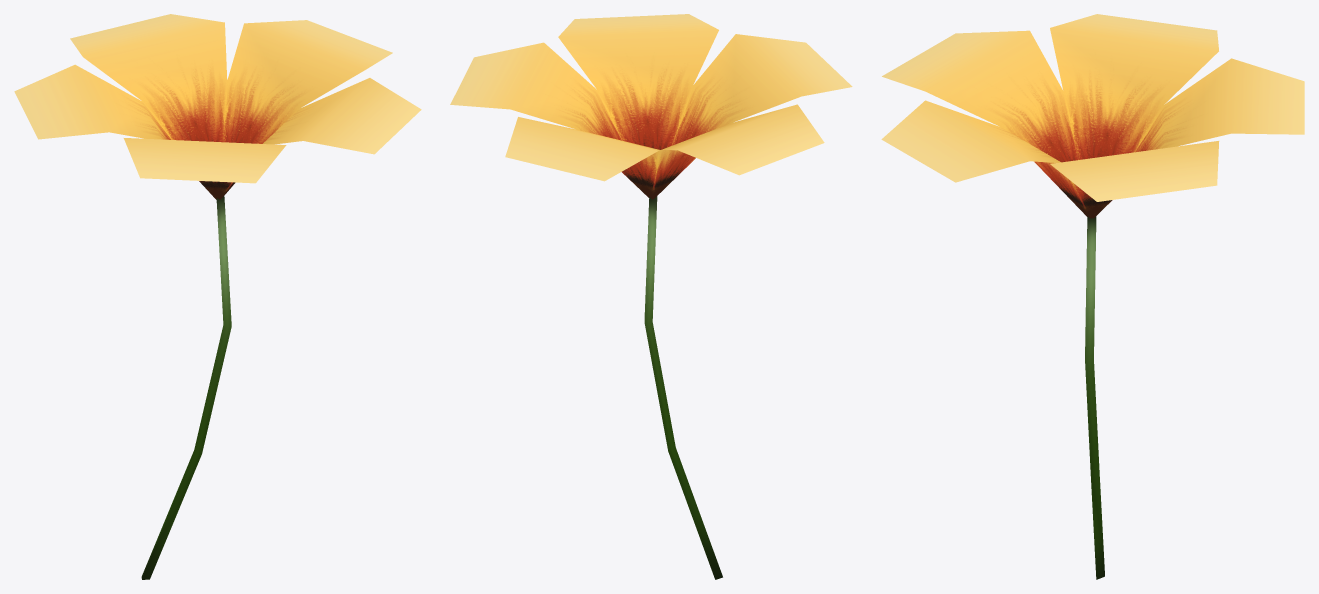
File: stylized_flowers_stage5.glb
3 renders of one model, left to right at view 1: azimuth 30°, elevation 25°; view 2: azimuth 150°, elevation 25°; view 3: azimuth 270°, elevation 25°, orthographic. The views are drawn at different scales.
Parts seen in each view (by area): view 1: Stage5; view 2: Stage5; view 3: Stage5.
Part boxes in pixels (box(x1,y1,x2,y2)): Stage5: box(14, 14, 421, 579); Stage5: box(450, 14, 852, 579); Stage5: box(881, 14, 1304, 579).
Bounding box in the file's own units: 2.99 × 3.85 × 2.85.
Materials: 1 (1 with a texture image).
